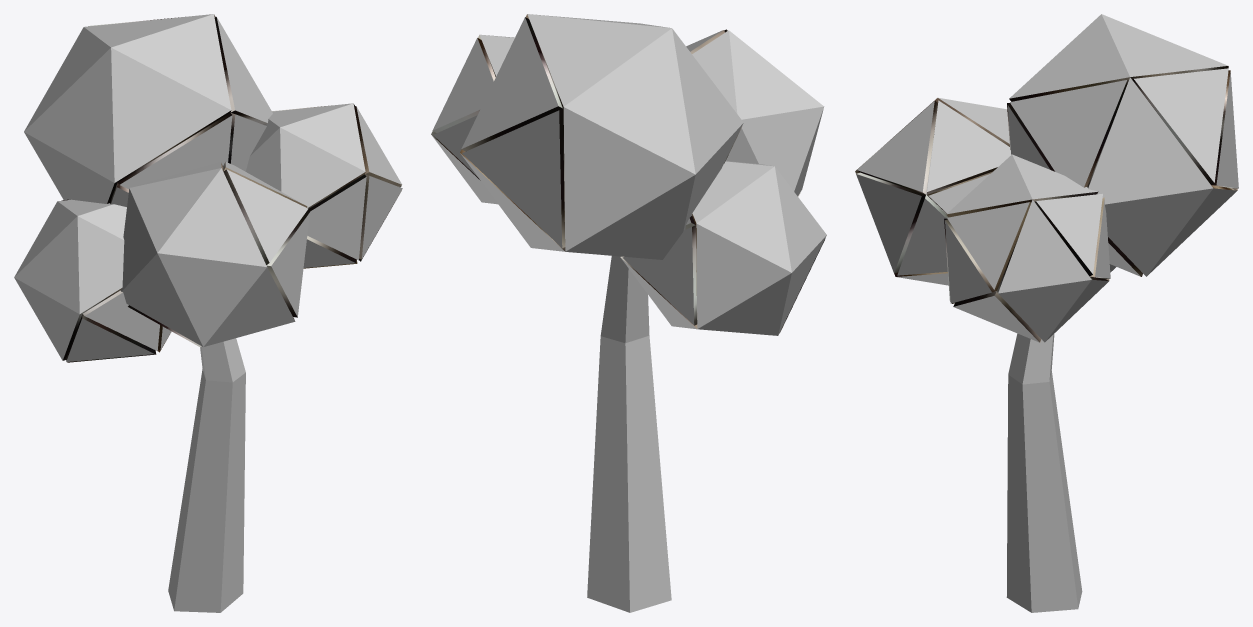
The model's file is Tree2.fbx.
The picture shows the model from 3 angles, left to right: view 1: azimuth 30°, elevation 25°; view 2: azimuth 150°, elevation 25°; view 3: azimuth 270°, elevation 25°; orthographic projection. The views are drawn at different scales.
Parts seen in each view (by area): view 1: Tree2; view 2: Tree2; view 3: Tree2.
Part boxes in pixels (x1=…): Tree2: x1=14, y1=14, x2=402, y2=612; Tree2: x1=431, y1=14, x2=826, y2=612; Tree2: x1=855, y1=14, x2=1238, y2=612.
Bounding box in the file's own units: 1186 × 1816 × 1139.
